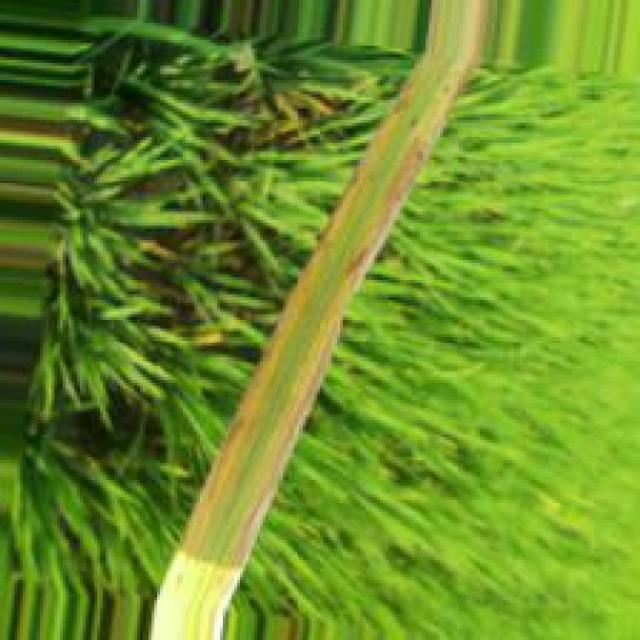Narrow_Brown_Leaf_Spot: (178, 46, 470, 570)
